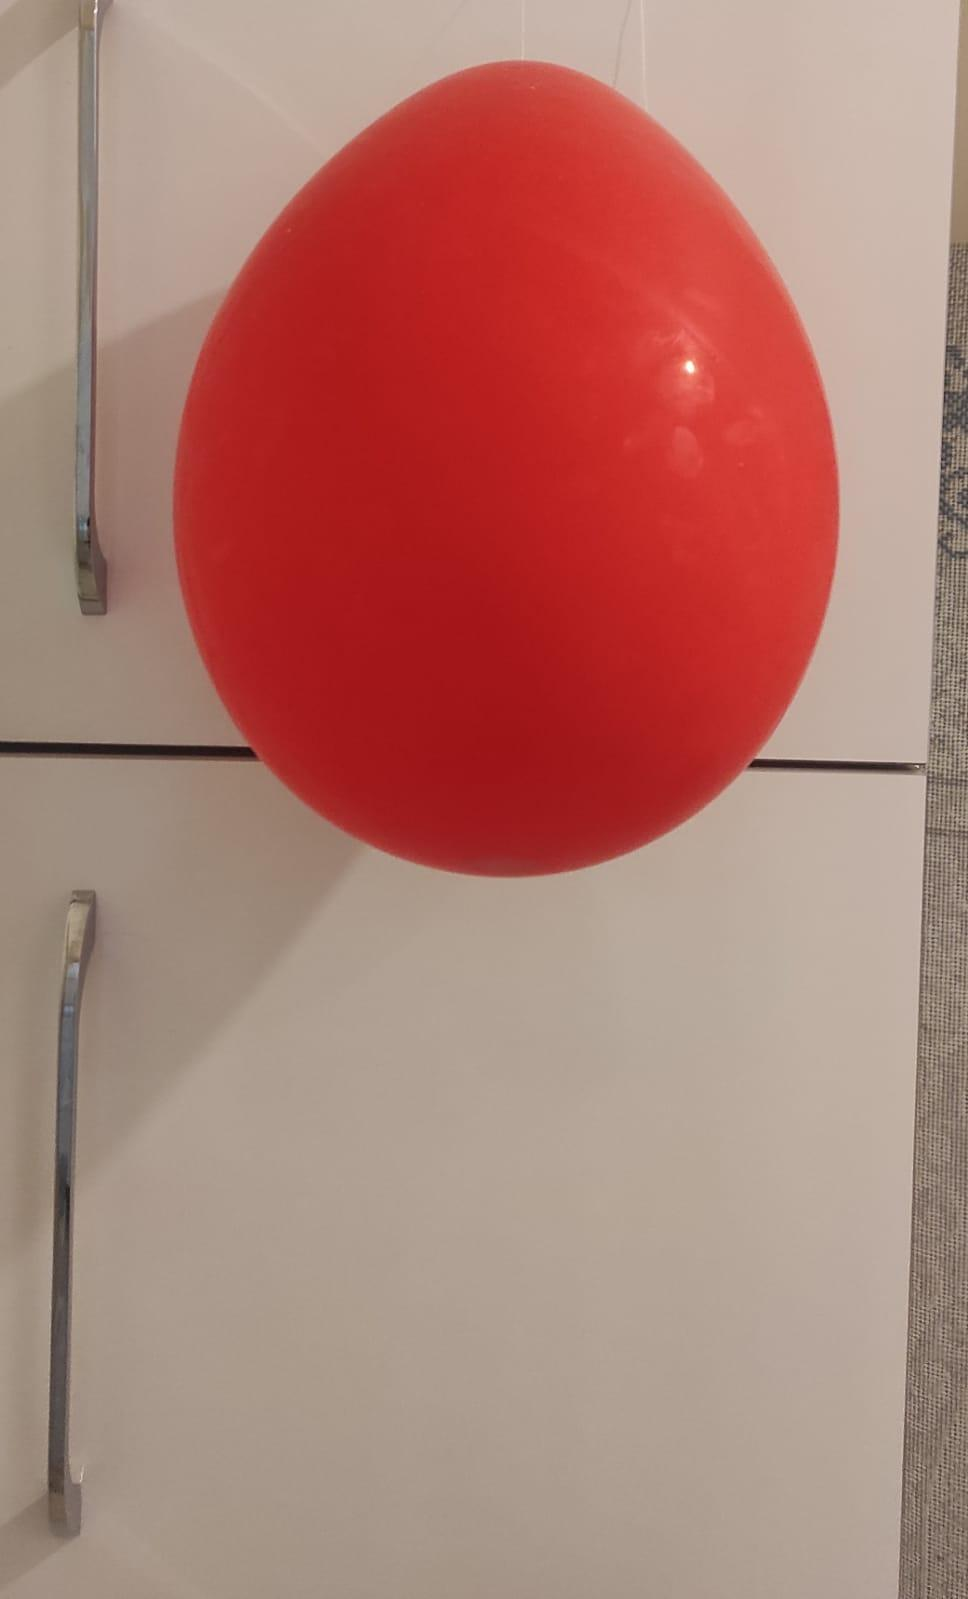red: (161, 54, 856, 884)
